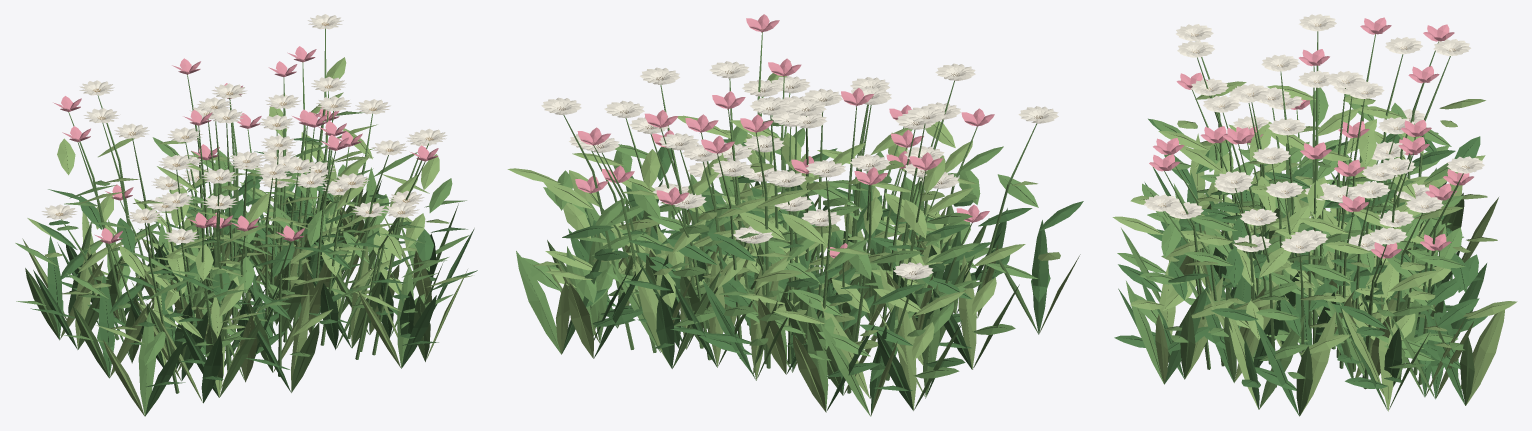
File: wildflower-patch.glb
3 renders of one model, left to right at view 1: azimuth 30°, elevation 25°; view 2: azimuth 150°, elevation 25°; view 3: azimuth 270°, elevation 25°, orthographic. The views are drawn at different scales.
Visible parts, largest first — view 1: wildflower-patch; view 2: wildflower-patch; view 3: wildflower-patch.
Part boxes in pixels (x1,y1,x2,y2): wildflower-patch: [15, 14, 477, 416]; wildflower-patch: [507, 14, 1083, 416]; wildflower-patch: [1112, 14, 1517, 416].
Bounding box in the file's own units: 1 × 0.55 × 0.8.
